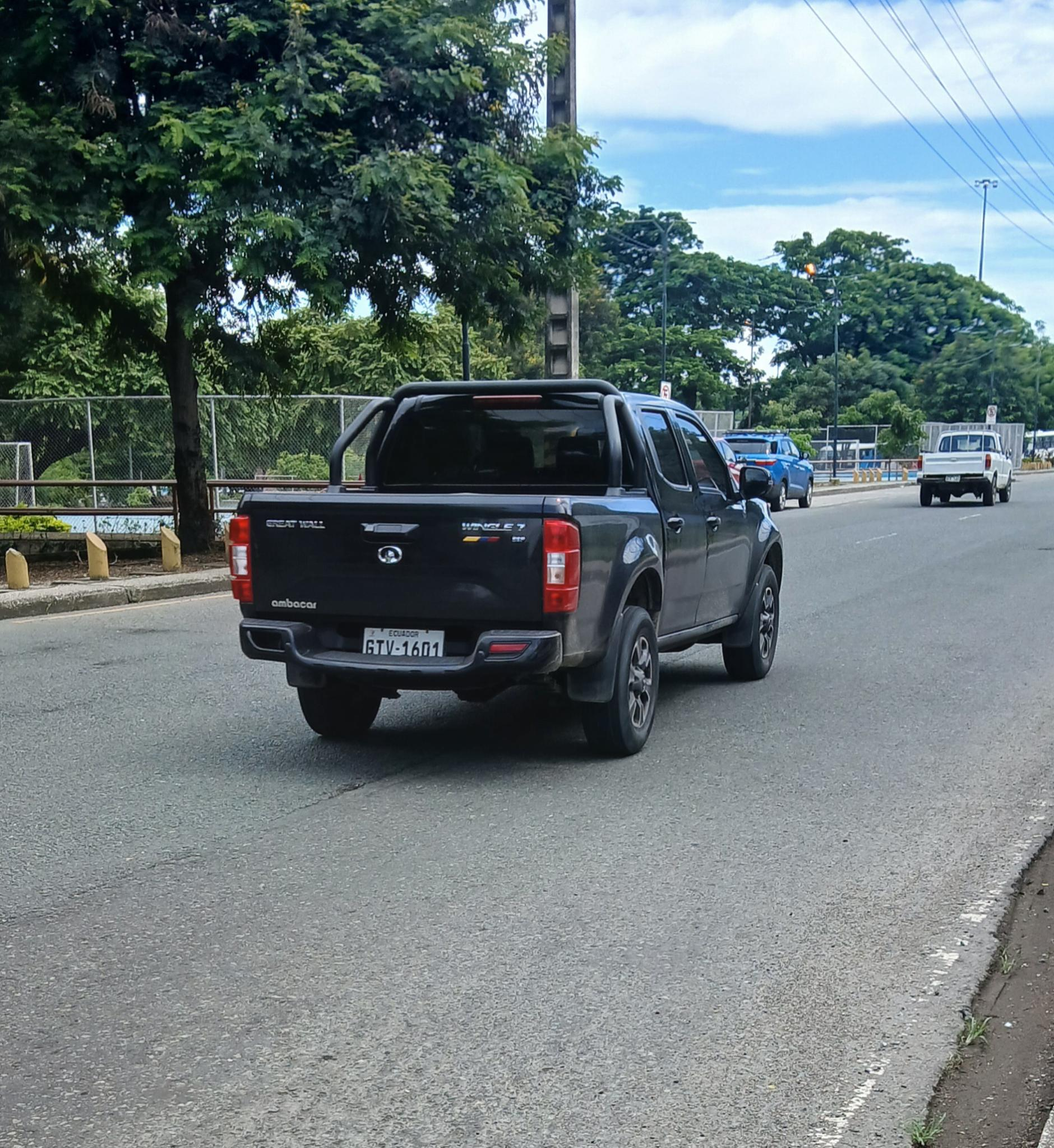license_plate: (361, 628, 447, 657), (945, 474, 960, 481)
